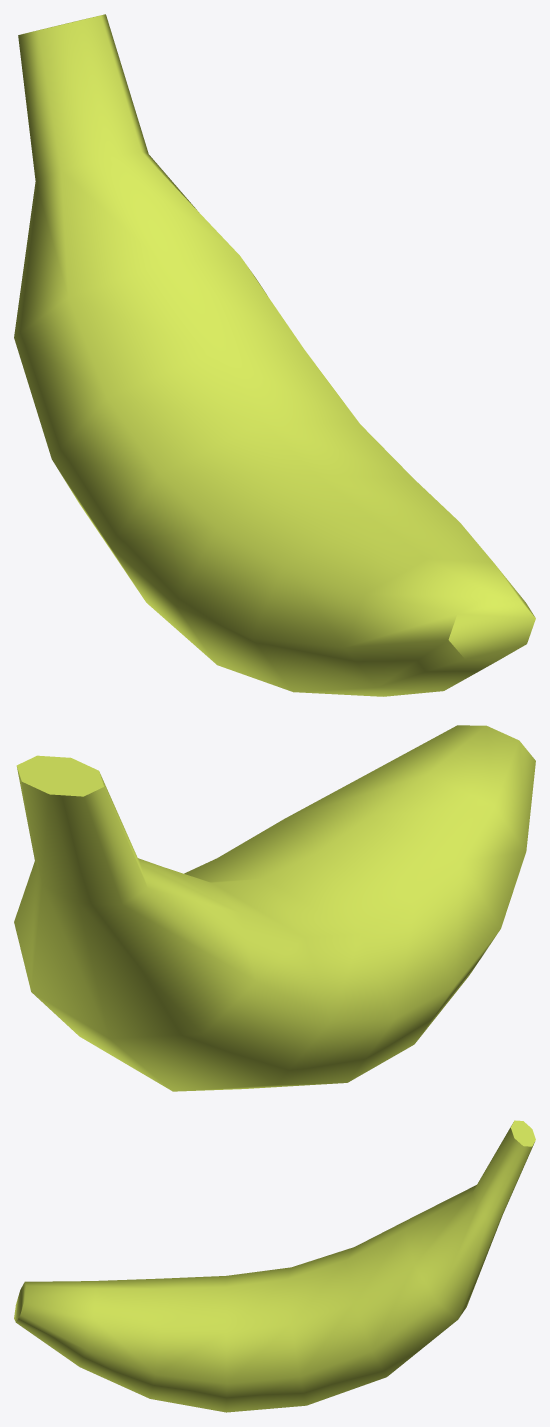
Rendered from Banana.fbx.
The picture shows the model from 3 angles, top to bottom: view 1: azimuth 30°, elevation 25°; view 2: azimuth 150°, elevation 25°; view 3: azimuth 270°, elevation 25°; orthographic projection. The views are drawn at different scales.
Parts seen in each view (by area): view 1: Banana; view 2: Banana; view 3: Banana.
Boxes of the visible parts, x1,y1,x2,y2 form: Banana: (14,14,535,696); Banana: (14,725,535,1091); Banana: (14,1120,535,1412).
Size of the model in its own units: 70.47 by 111 by 192.
